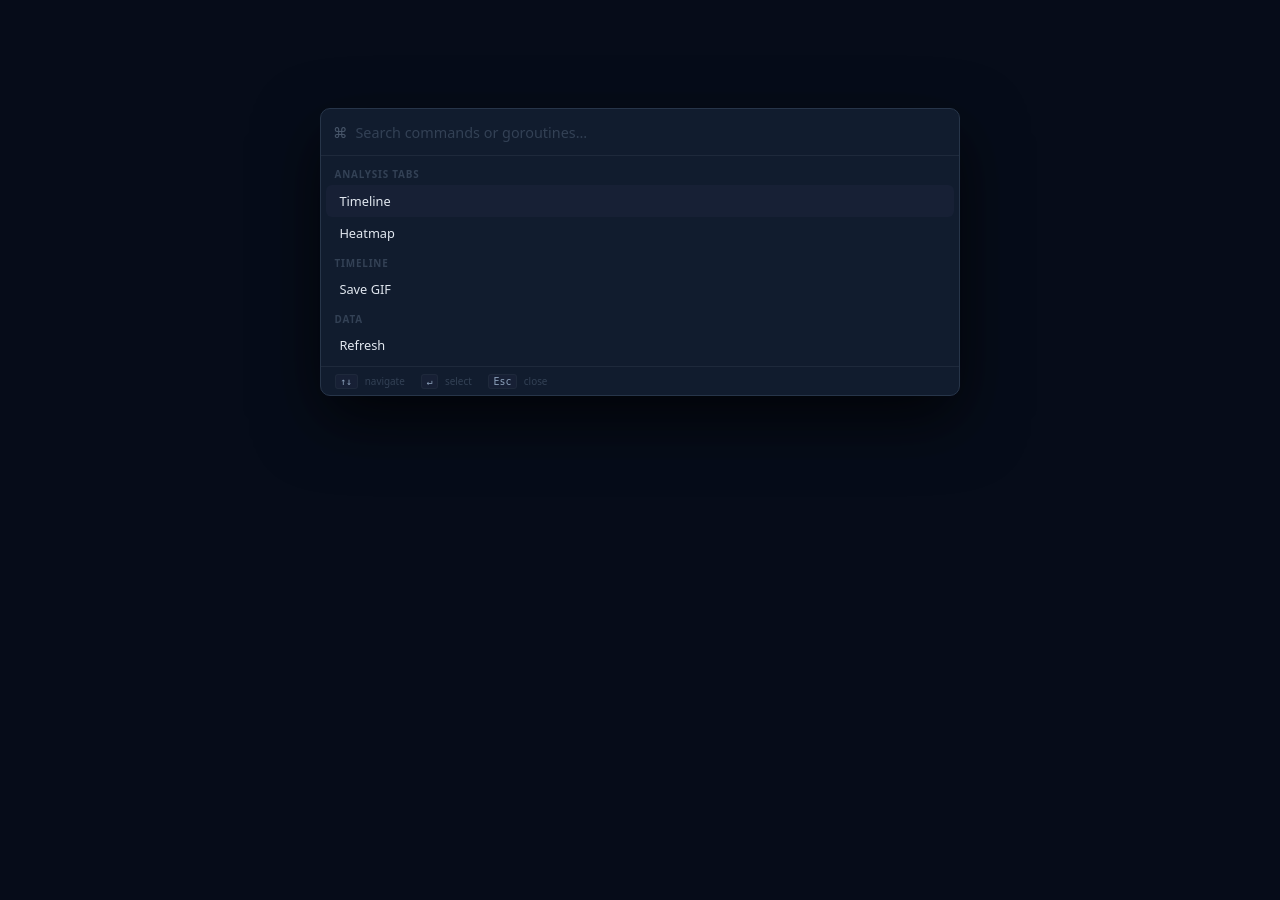
it: CommandPalette › filters entries by fuzzy query
Type "gif" into the field with placeholder "Search commands or goroutines…" at (651, 132), box [355,109,947,155]
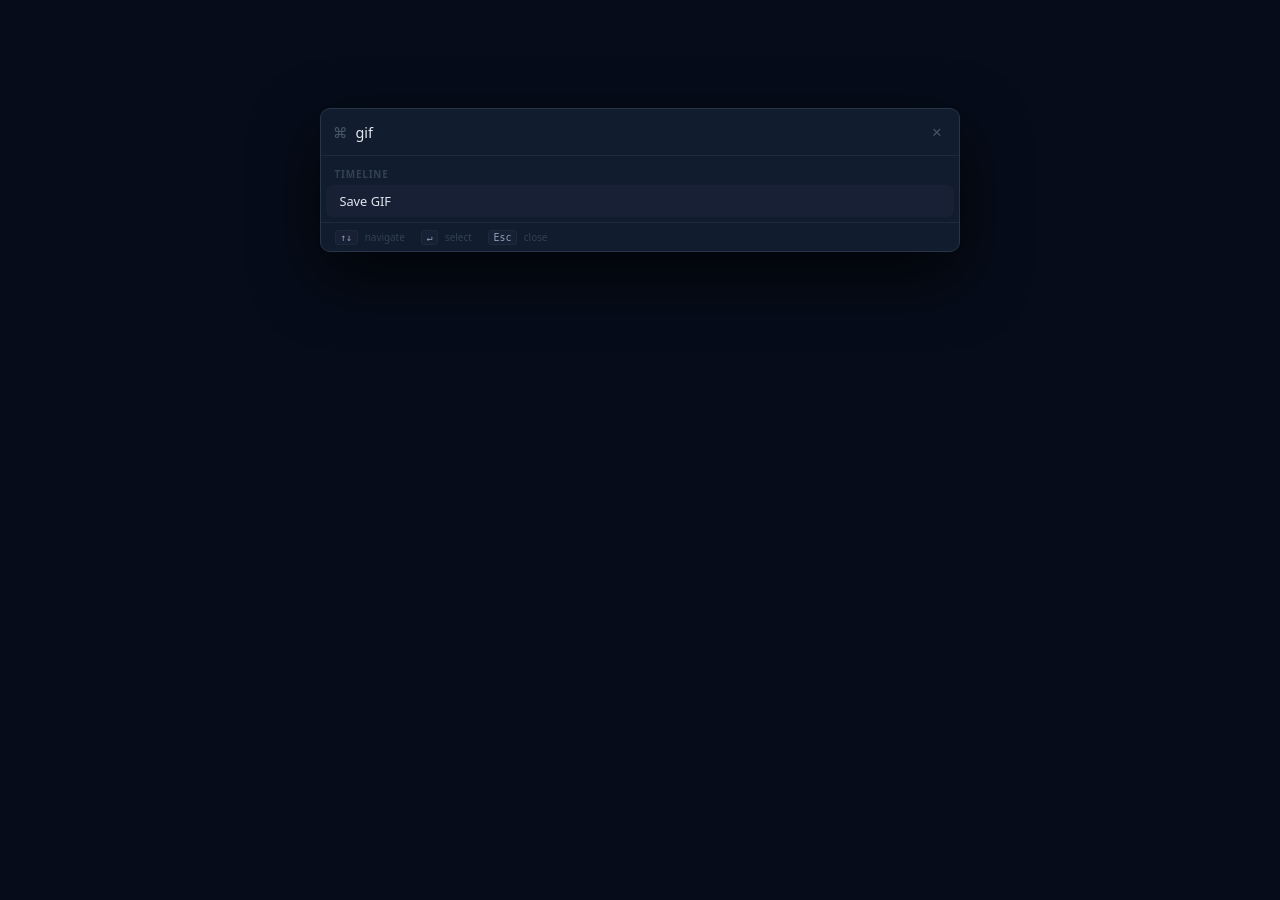
expect the text "Save GIF" is shown: met, box [339,192,391,210]
expect the option "Heatmap" is gone: met
